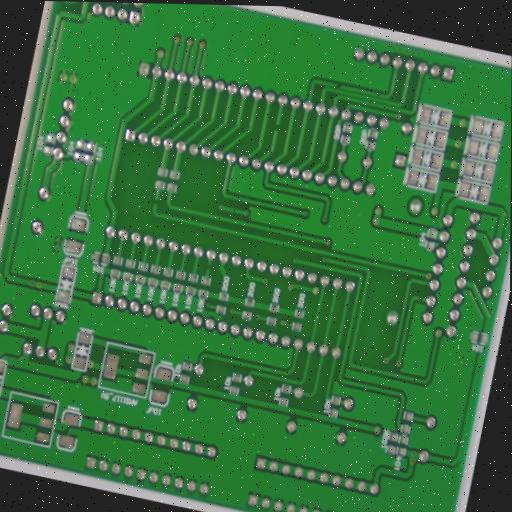open_circuit: (149, 196, 162, 207), (272, 123, 282, 134), (415, 294, 425, 304), (333, 81, 344, 90), (205, 262, 214, 272)
